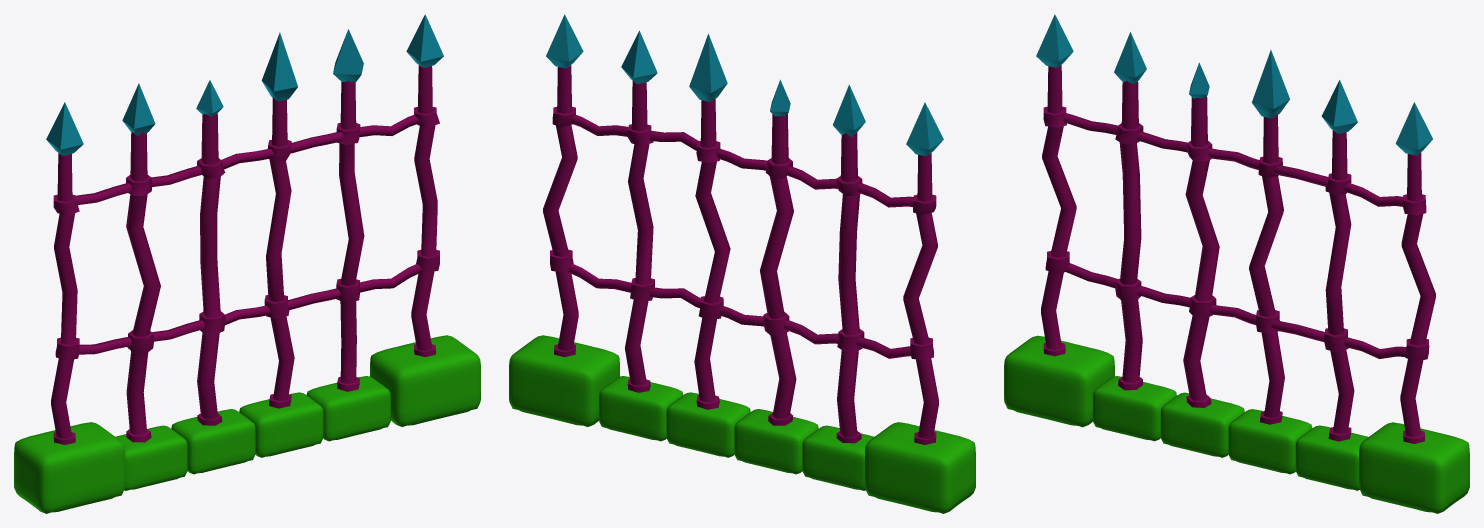
File: FenchUNWRAP.FBX
The picture shows the model from 3 angles, left to right: view 1: azimuth 30°, elevation 25°; view 2: azimuth 150°, elevation 25°; view 3: azimuth 330°, elevation 25°; orthographic projection.
Parts seen in each view (by area): view 1: Box001; view 2: Box001; view 3: Box001.
Part boxes in pixels (x1=…): Box001: x1=14, y1=14, x2=480, y2=513; Box001: x1=509, y1=14, x2=975, y2=513; Box001: x1=1004, y1=14, x2=1469, y2=513.
Size of the model in its own units: 42.85 by 5.48 by 38.27.
